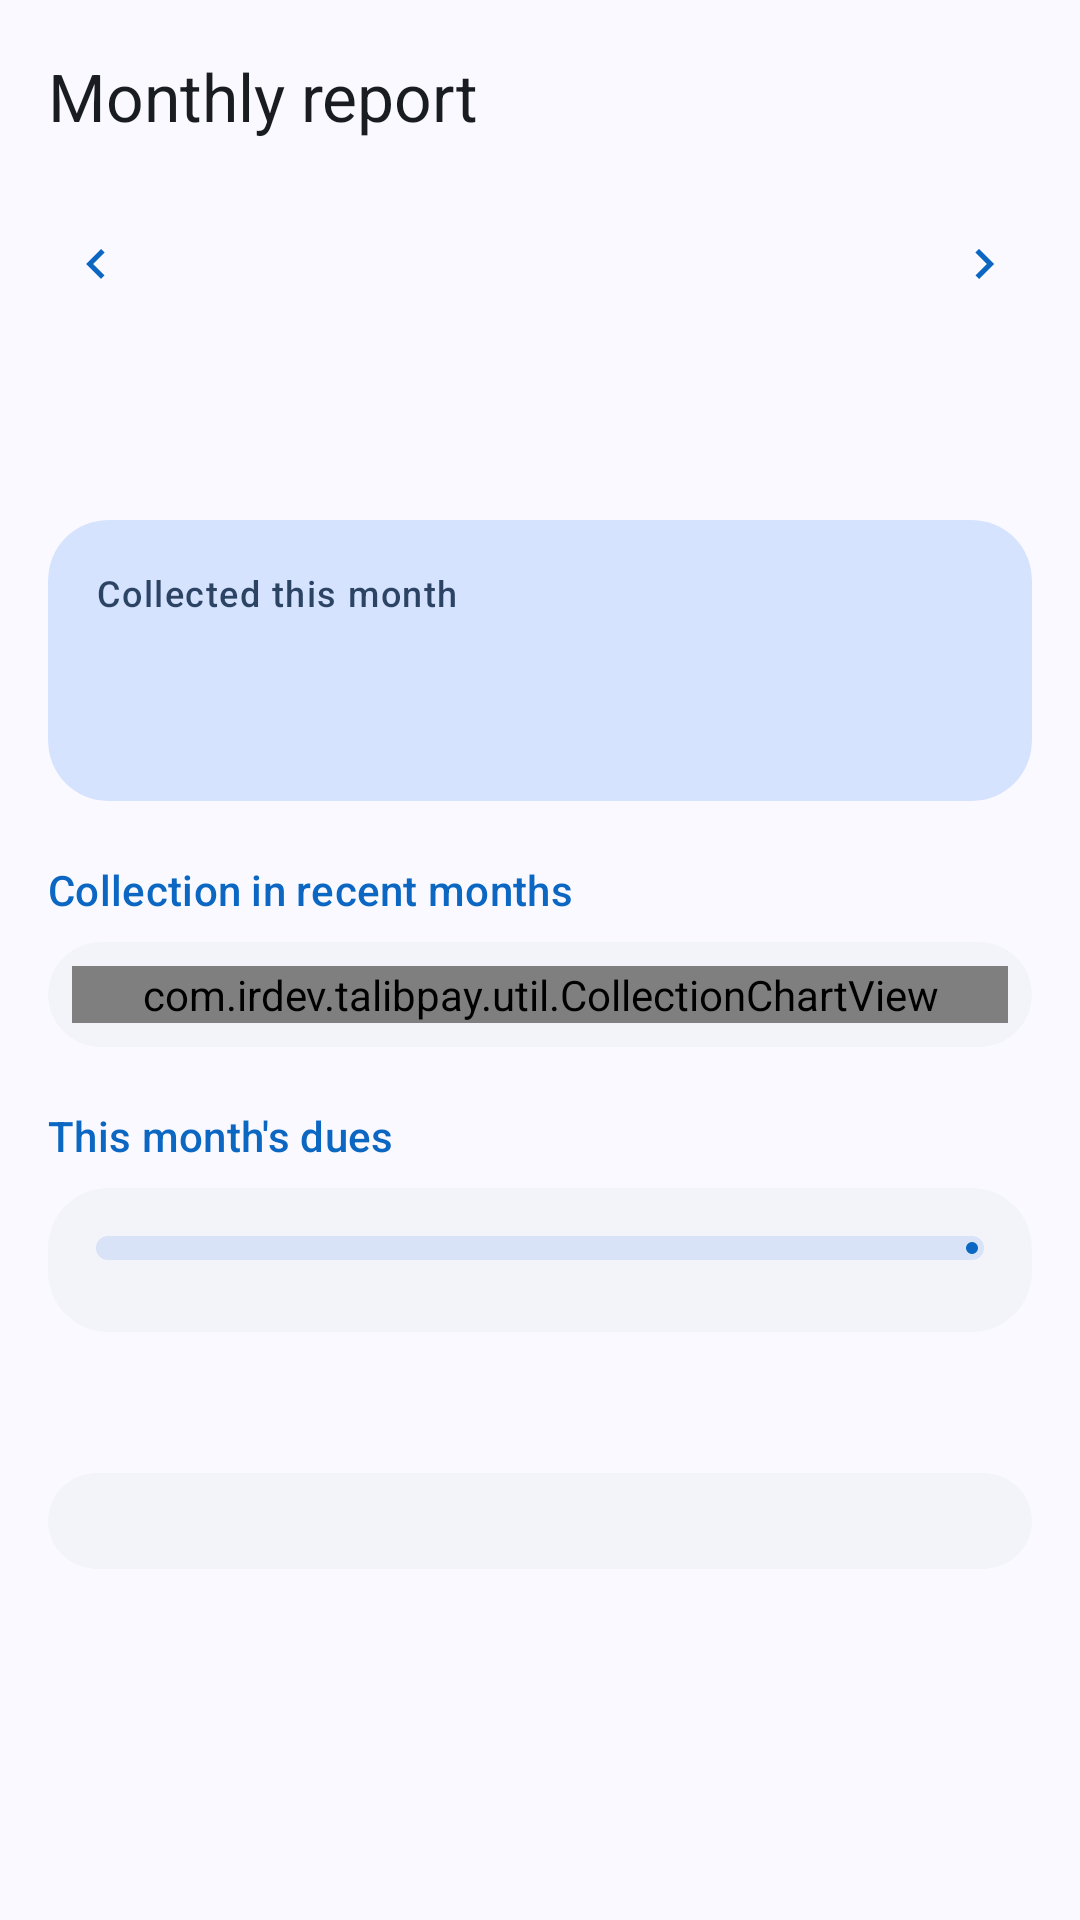

Icon click points for this 1080 x 1920 phone screenshot, format point (x, y):
Next month: point (984, 264)
Previous month: point (95, 264)
